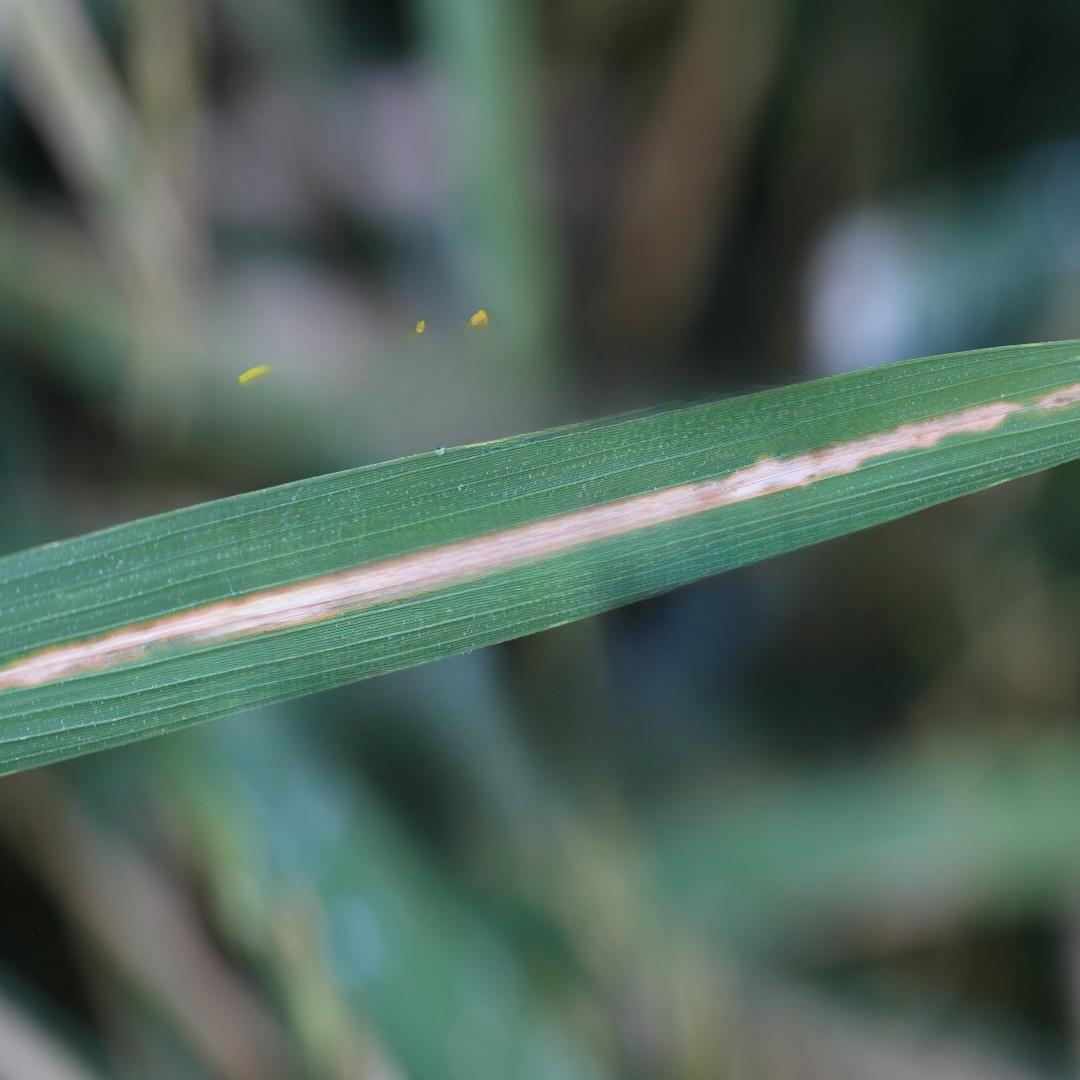BLB: (2, 383, 1079, 690)
LEAF: (0, 342, 1079, 775)
